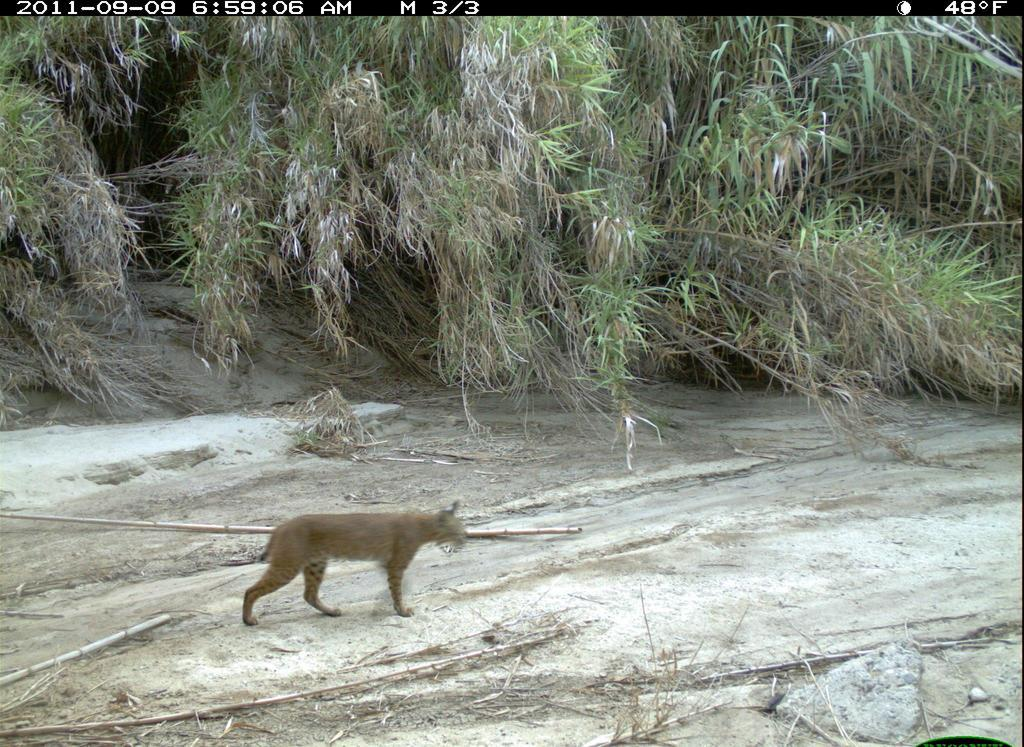bobcat: (230, 491, 473, 643)
